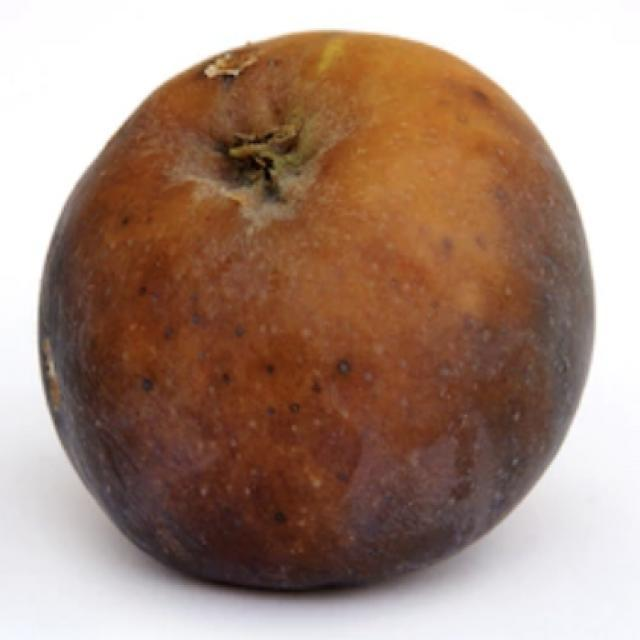Rotten: (35, 23, 598, 597)
